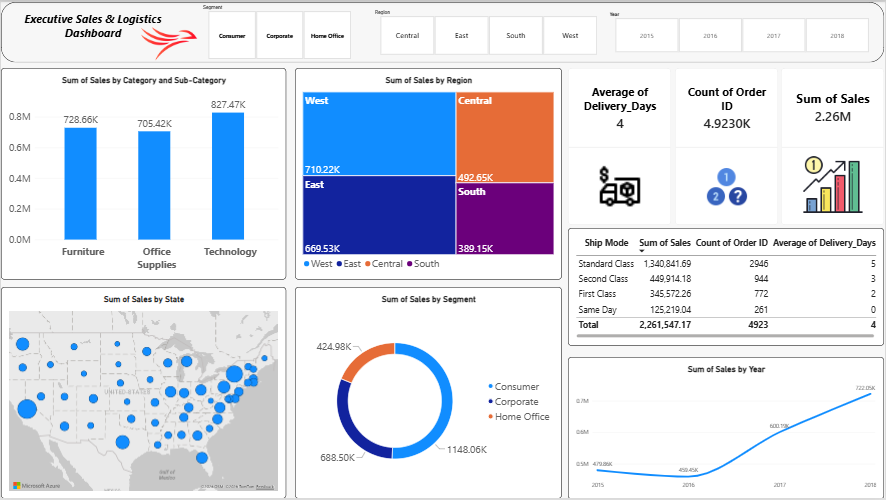

What the dashboard file says about the page in this screenshot:
{"tool":"powerbi","page":{"name":"Page 1","canvas":[1920,1080],"ordinal":0},"visuals":[{"type":"columnChart","title":"Sum of Sales by Category and Sub-Category","fields":{"Category":["power query.Category","power query.Sub-Category"],"Y":["Sum(power query.Sales)"]},"box":[0,144.3,620,460],"z":0},{"type":"azureMap","fields":{"Category":["power query.State"],"Size":["Sum(power query.Sales)"]},"box":[0,620,620,460],"z":1000},{"type":"treemap","fields":{"Group":["power query.Region"],"Values":["Sum(power query.Sales)"]},"box":[640,144.3,580,460],"z":2000},{"type":"tableEx","fields":{"Values":["power query.Ship Mode","Sum(power query.Sales)","power query.Order ID","Avg(power query.Delivery_Days)"]},"box":[1232.9,491.4,687.1,255.7],"z":3000},{"type":"donutChart","fields":{"Category":["power query.Segment"],"Y":["Sum(power query.Sales)"]},"box":[640,620,580,460],"z":4000},{"type":"lineChart","fields":{"Category":["power query.Order_Date.Variation.Date Hierarchy.Year"],"Y":["Sum(power query.Sales)"]},"box":[1232.9,771.4,687.1,308.6],"z":5000},{"type":"cardVisual","fields":{"Data":["Sum(power query.Sales)"]},"box":[1695.7,144.3,224.3,341.4],"z":6000},{"type":"cardVisual","fields":{"Data":["Count(power query.Order ID)"]},"box":[1464.3,144.3,224.3,341.4],"z":7000},{"type":"shape","box":[0,0,1920,131.4],"z":8000},{"type":"cardVisual","fields":{"Data":["Avg(power query.Delivery_Days)"]},"box":[1232.9,144.3,224.3,341.4],"z":9000},{"type":"textbox","box":[0,0,400,131.4],"z":10000},{"type":"slicer","fields":{"Values":["power query.Region"]},"box":[804.3,14.3,510,101.4],"z":11000},{"type":"slicer","fields":{"Values":["power query.Order_Date.Variation.Date Hierarchy.Year"]},"box":[1314.3,20,590,91.4],"z":12000},{"type":"slicer","fields":{"Values":["power query.Segment"]},"box":[430,4.3,348.6,121.4],"z":13000},{"type":"image","box":[215.7,25.7,300,130],"z":14000}]}

Visuals, with their boxes in screenshot pixels (x1, y1, x2, y2), scaled from the page's 1920x1080 canvas onto the 886x500 screenshot:
"Sum of Sales by Category and Sub-Category" columnChart: (x1=0, y1=67, x2=286, y2=280)
azureMap - power query.State x Sum(power query.Sales): (x1=0, y1=287, x2=286, y2=499)
treemap - power query.Region x Sum(power query.Sales): (x1=295, y1=67, x2=563, y2=280)
tableEx - power query.Ship Mode x Sum(power query.Sales): (x1=569, y1=228, x2=885, y2=346)
donutChart - power query.Segment x Sum(power query.Sales): (x1=295, y1=287, x2=563, y2=499)
lineChart - power query.Order_Date.Variation.Date Hierarchy.Year x Sum(power query.Sales): (x1=569, y1=357, x2=885, y2=499)
cardVisual - Sum(power query.Sales): (x1=782, y1=67, x2=885, y2=225)
cardVisual - Count(power query.Order ID): (x1=676, y1=67, x2=779, y2=225)
shape: (x1=0, y1=0, x2=885, y2=61)
cardVisual - Avg(power query.Delivery_Days): (x1=569, y1=67, x2=672, y2=225)
textbox: (x1=0, y1=0, x2=185, y2=61)
slicer - power query.Region: (x1=371, y1=7, x2=606, y2=54)
slicer - power query.Order_Date.Variation.Date Hierarchy.Year: (x1=606, y1=9, x2=879, y2=52)
slicer - power query.Segment: (x1=198, y1=2, x2=359, y2=58)
image: (x1=100, y1=12, x2=238, y2=72)
